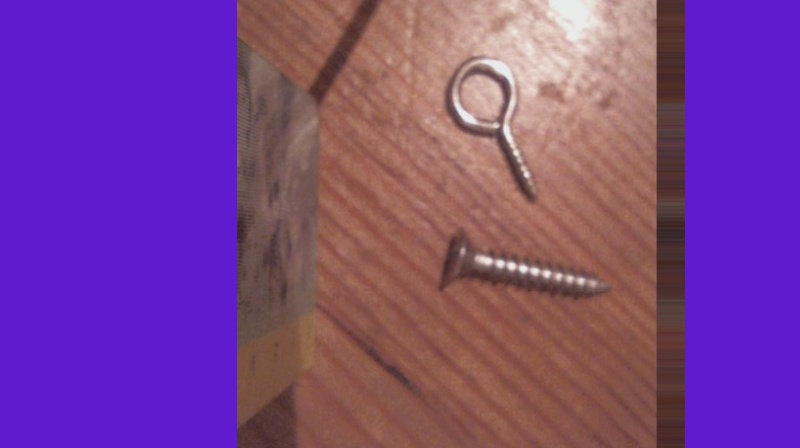O001: (442, 55, 538, 210)
S001: (439, 230, 612, 302)
